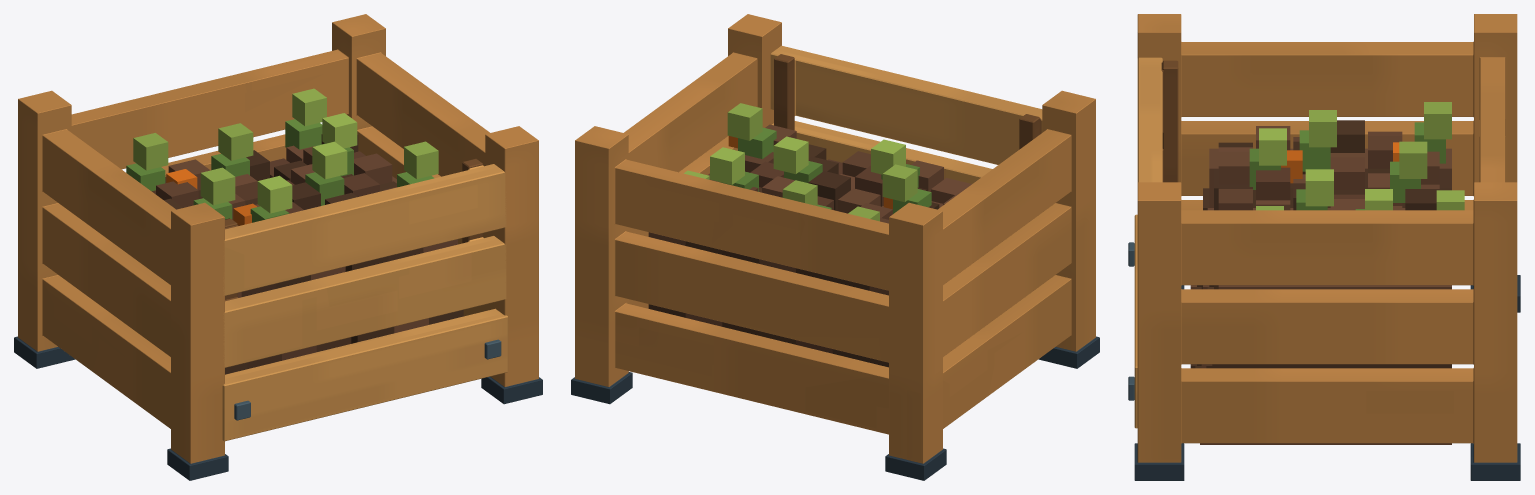
File: SM_VMF_Facility_CompostBin.fbx
3 views of the same model, side by side, from view 1: azimuth 30°, elevation 25°; view 2: azimuth 150°, elevation 25°; view 3: azimuth 270°, elevation 25° (orthographic). The views are drawn at different scales.
Parts seen in each view (by area): view 1: SM_VMF_Facility_CompostBin_Frame_PostsAndSlats, SM_VMF_Facility_CompostBin_RemovableFront_UpperBoards, SM_VMF_Facility_CompostBin_RemovableLowerPlank_Plank, SM_VMF_Facility_CompostBin_Contents_VegetableScraps, SM_VMF_Facility_CompostBin_Contents_CompostHeap; view 2: SM_VMF_Facility_CompostBin_Frame_PostsAndSlats, SM_VMF_Facility_CompostBin_RemovableFront_UpperBoards, SM_VMF_Facility_CompostBin_Contents_CompostHeap, SM_VMF_Facility_CompostBin_Contents_VegetableScraps; view 3: SM_VMF_Facility_CompostBin_Frame_PostsAndSlats, SM_VMF_Facility_CompostBin_Contents_CompostHeap, SM_VMF_Facility_CompostBin_Contents_VegetableScraps, SM_VMF_Facility_CompostBin_RemovableFront_UpperBoards, SM_VMF_Facility_CompostBin_RemovableLowerPlank_Plank.
Part boxes in pixels (box(x1,y1,x2,y2)): SM_VMF_Facility_CompostBin_Frame_PostsAndSlats: box(14, 14, 542, 480); SM_VMF_Facility_CompostBin_RemovableFront_UpperBoards: box(223, 159, 506, 367); SM_VMF_Facility_CompostBin_RemovableLowerPlank_Plank: box(222, 308, 508, 441); SM_VMF_Facility_CompostBin_Contents_VegetableScraps: box(126, 88, 438, 225); SM_VMF_Facility_CompostBin_Contents_CompostHeap: box(152, 134, 463, 374); SM_VMF_Facility_CompostBin_Frame_PostsAndSlats: box(571, 14, 1099, 480); SM_VMF_Facility_CompostBin_RemovableFront_UpperBoards: box(770, 45, 1042, 183); SM_VMF_Facility_CompostBin_Contents_CompostHeap: box(648, 124, 971, 367); SM_VMF_Facility_CompostBin_Contents_VegetableScraps: box(684, 103, 931, 221); SM_VMF_Facility_CompostBin_Frame_PostsAndSlats: box(1134, 14, 1520, 480); SM_VMF_Facility_CompostBin_Contents_CompostHeap: box(1190, 120, 1451, 444); SM_VMF_Facility_CompostBin_Contents_VegetableScraps: box(1249, 102, 1464, 210); SM_VMF_Facility_CompostBin_RemovableFront_UpperBoards: box(1137, 57, 1178, 182); SM_VMF_Facility_CompostBin_RemovableLowerPlank_Plank: box(1134, 214, 1137, 428).
Bounding box in the file's own units: 144 × 99 × 126.
1 material, 1 textured.
